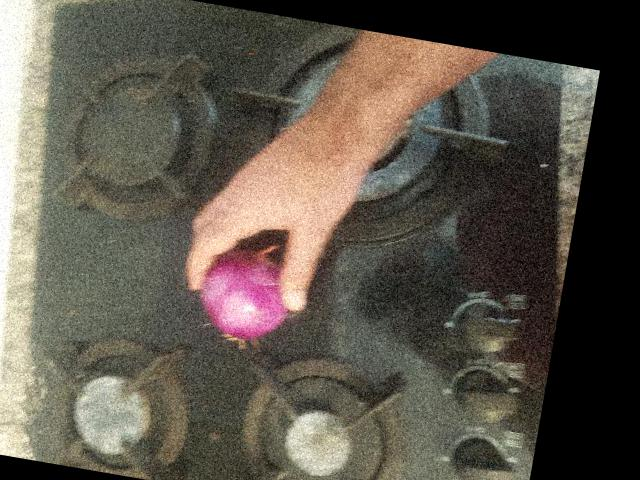onion: (194, 234, 305, 343)
